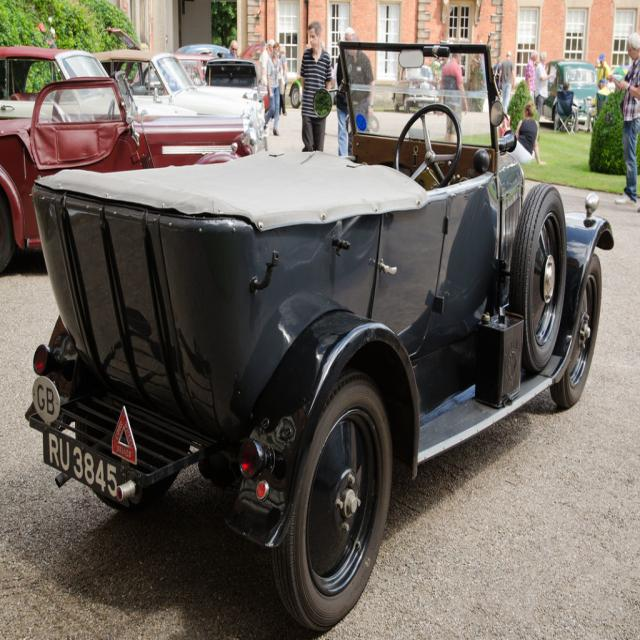car: (19, 62, 594, 613), (390, 61, 439, 109)
